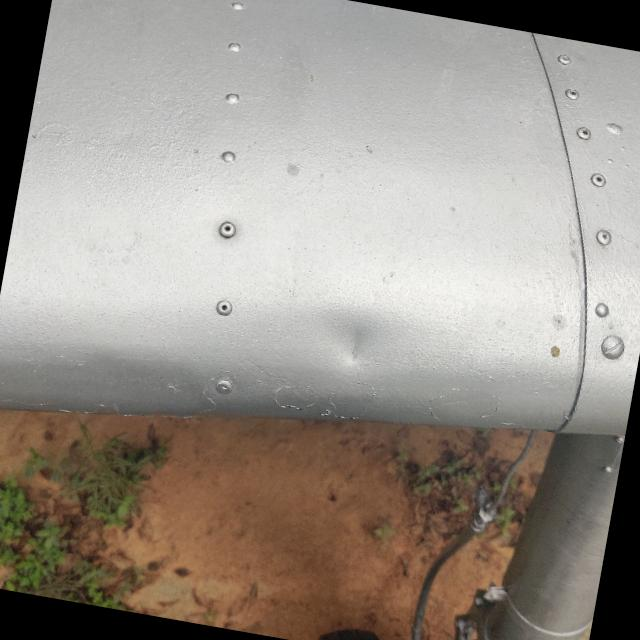dent: (324, 303, 386, 376)
